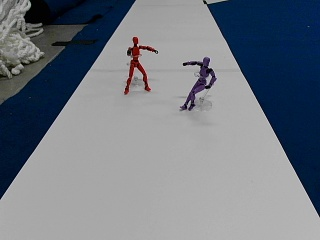pedestrian: (124, 36, 158, 93), (181, 55, 215, 111)
